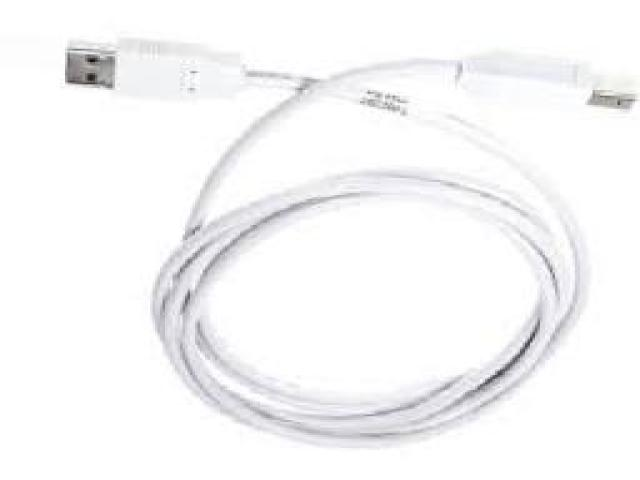wire: (62, 32, 638, 448)
